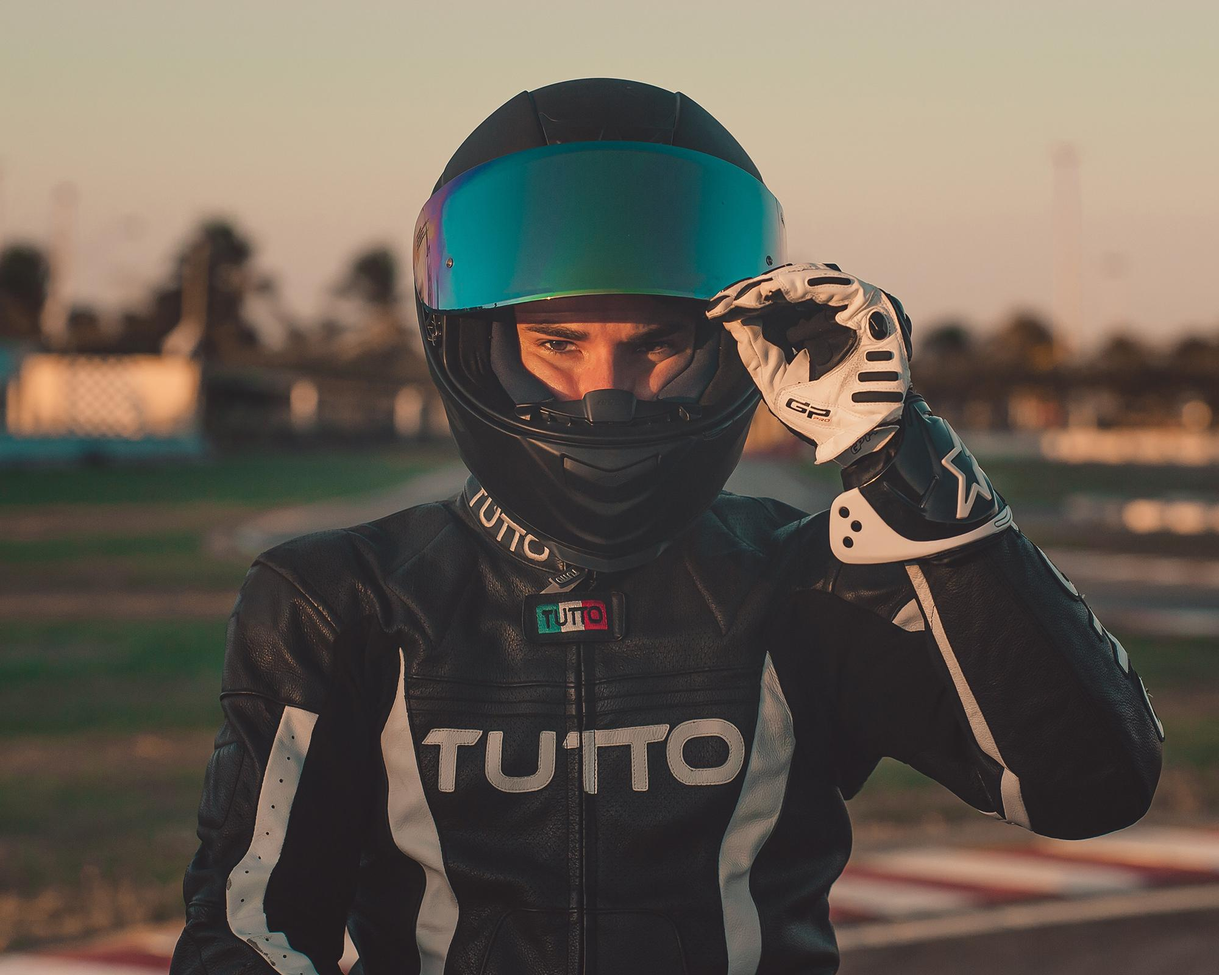helmet: (410, 74, 796, 576)
